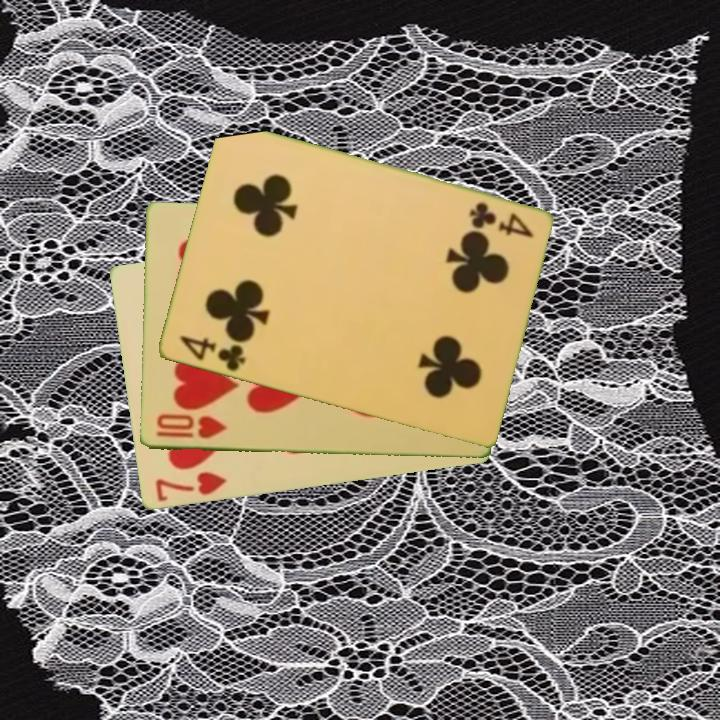10h: (152, 411, 229, 442)
4c: (175, 332, 248, 375), (465, 199, 536, 241)
7h: (151, 468, 230, 505)
